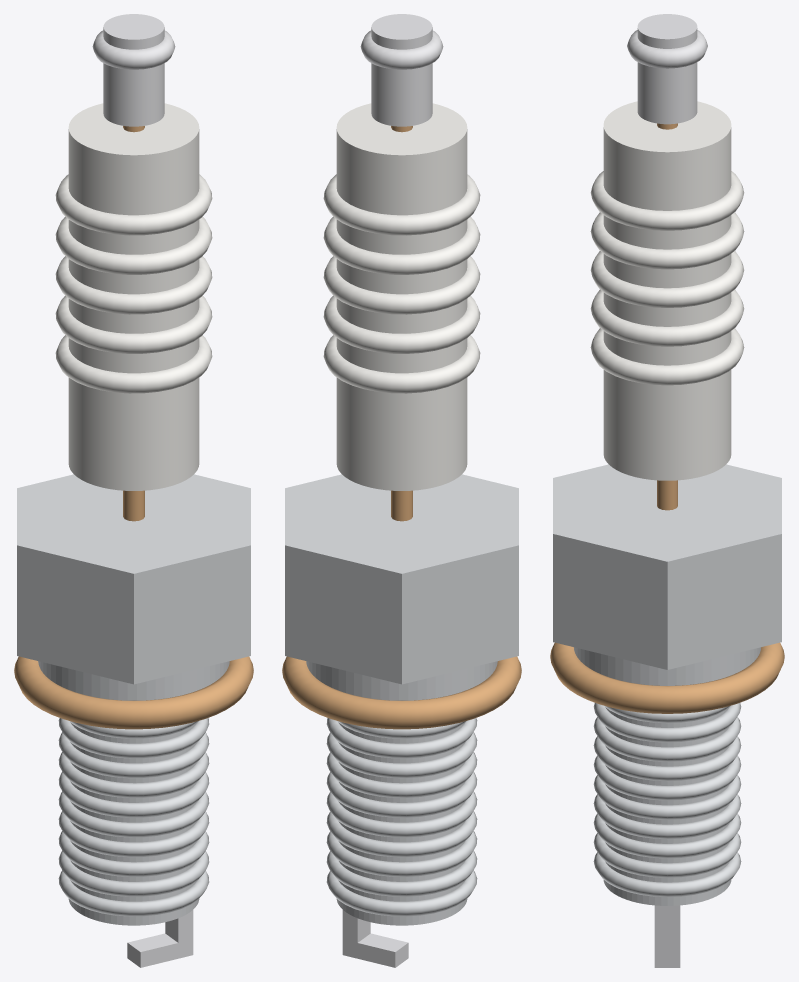
File: bujia.glb
The picture shows the model from 3 angles, left to right: view 1: azimuth 30°, elevation 25°; view 2: azimuth 150°, elevation 25°; view 3: azimuth 270°, elevation 25°; orthographic projection. The views are drawn at different scales.
Parts seen in each view (by area): view 1: cuerpo, aislador, junta, terminal; view 2: cuerpo, aislador, junta, terminal; view 3: cuerpo, aislador, junta, terminal.
Boxes of the visible parts, left/top/right/bottom form: cuerpo: left=17, top=474, right=250, bottom=967; aislador: left=55, top=103, right=212, bottom=521; junta: left=14, top=656, right=253, bottom=729; terminal: left=92, top=14, right=175, bottom=126; cuerpo: left=285, top=474, right=518, bottom=967; aislador: left=323, top=103, right=480, bottom=521; junta: left=282, top=656, right=521, bottom=729; terminal: left=360, top=14, right=443, bottom=126; cuerpo: left=553, top=464, right=781, bottom=967; aislador: left=590, top=101, right=744, bottom=510; junta: left=550, top=642, right=784, bottom=713; terminal: left=627, top=14, right=707, bottom=124.
Size of the model in its own units: 0.62 by 2.37 by 0.55.
